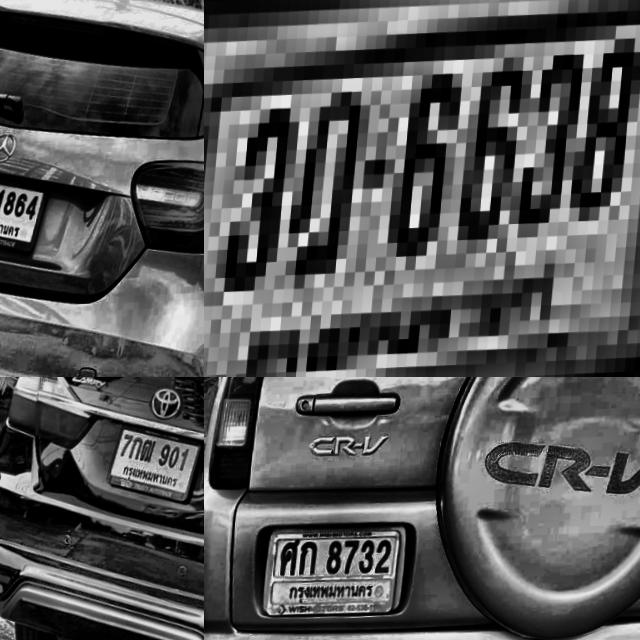license-plate: (204, 0, 640, 377), (271, 519, 417, 626), (107, 415, 204, 511), (0, 164, 61, 266)
